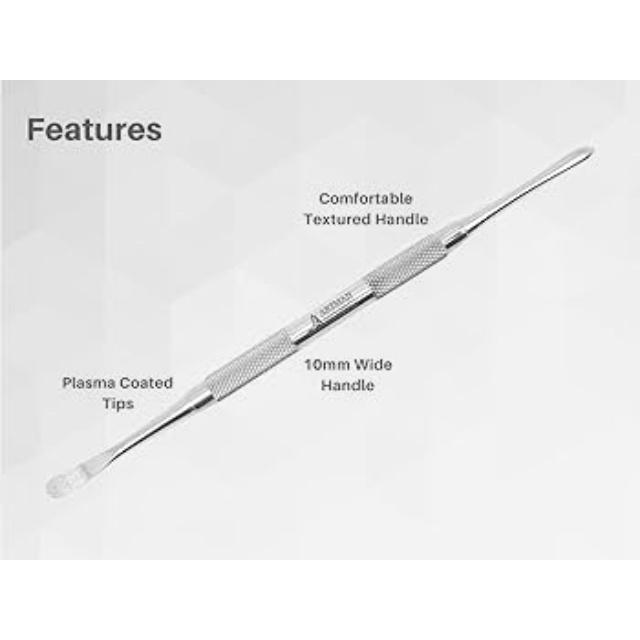elevador: (45, 147, 596, 502)
